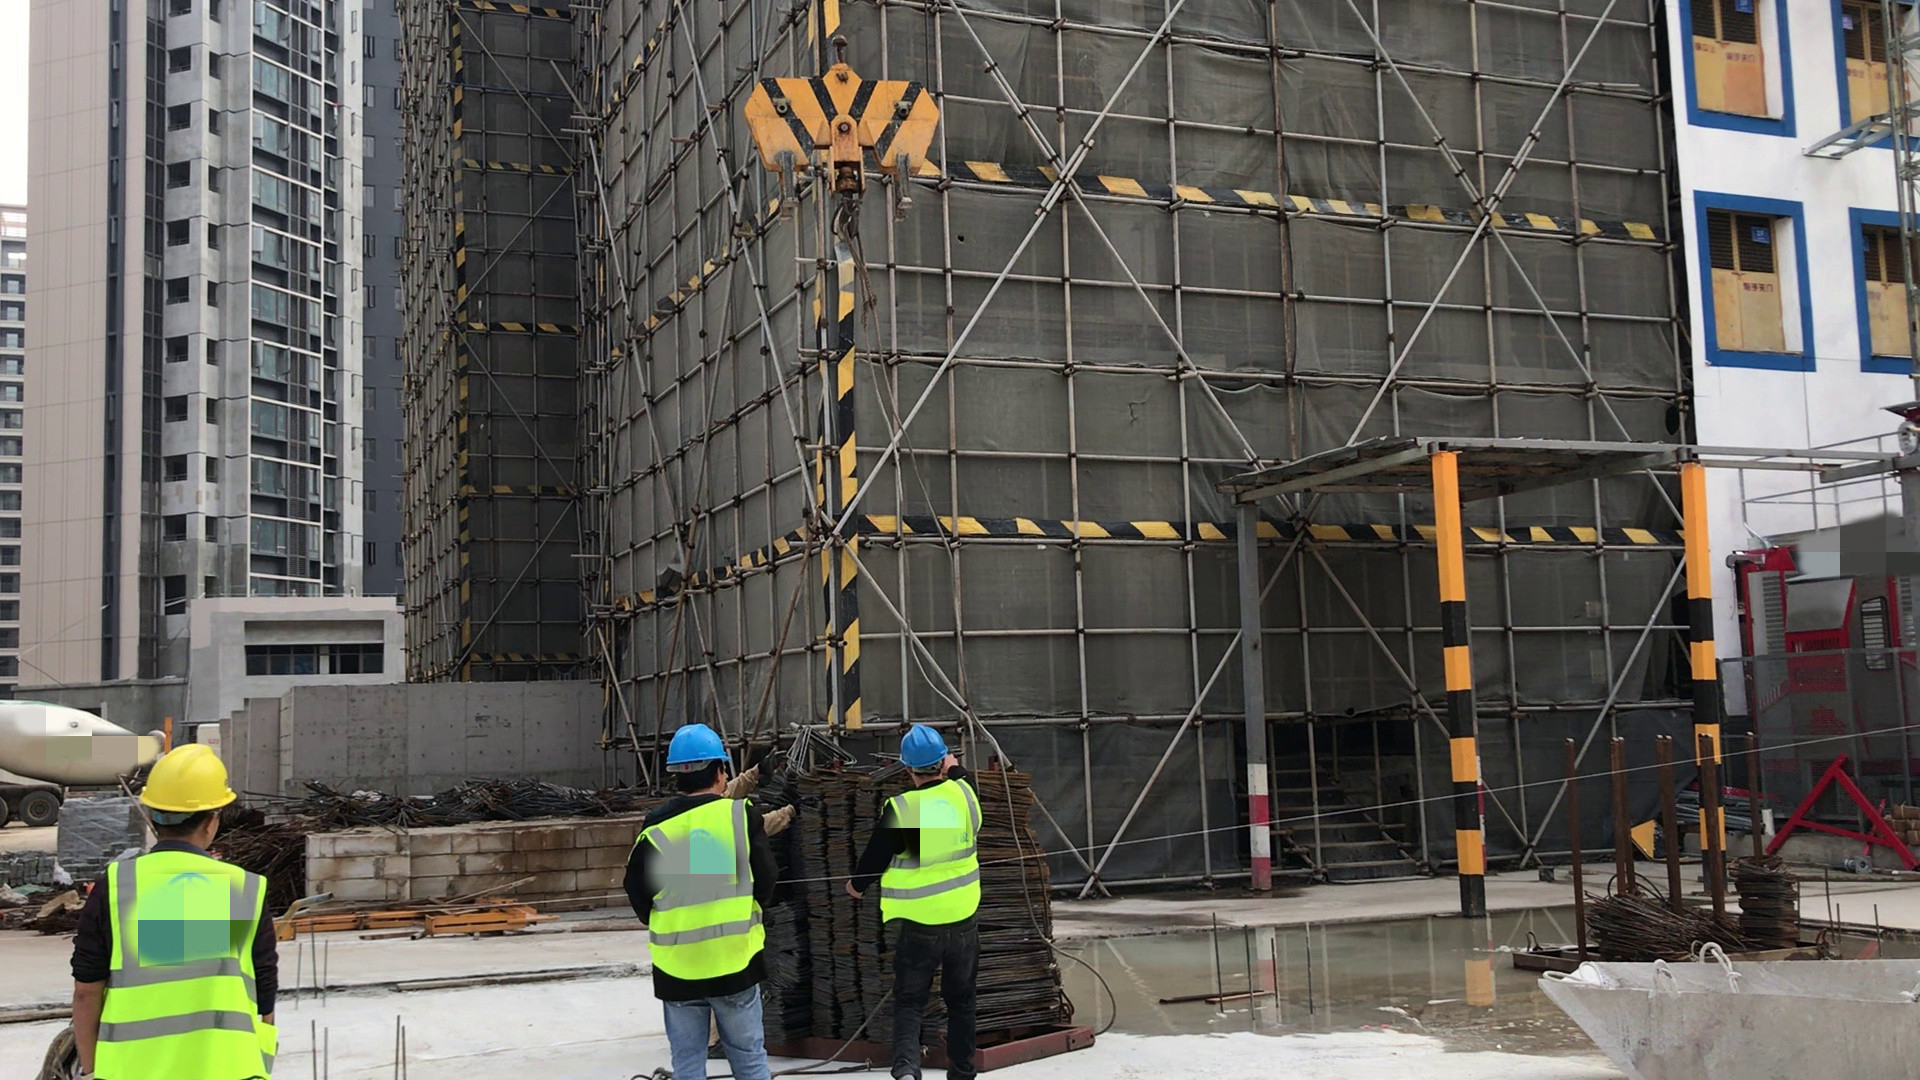helmet: (138, 742, 237, 814), (664, 724, 731, 767), (897, 725, 947, 768)
hook: (746, 38, 940, 247)
hopper: (1552, 949, 1920, 1076)
person: (71, 743, 276, 1080), (624, 724, 784, 1080), (846, 723, 984, 1080)
rebar: (794, 773, 1075, 1054)
vest: (98, 849, 278, 1080), (623, 796, 766, 980), (878, 776, 981, 927)
